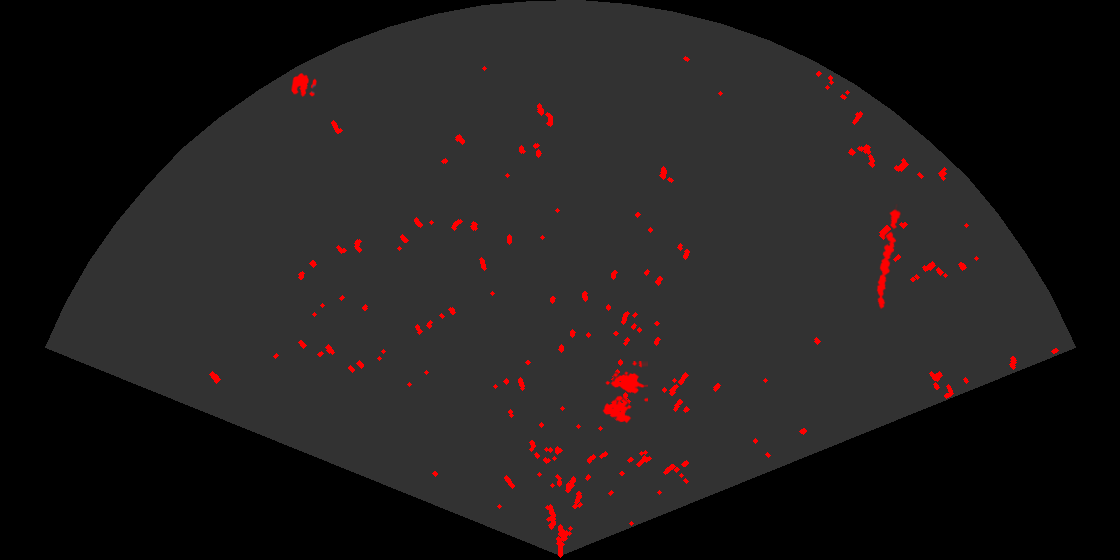ball: (290, 72, 318, 99)
cage: (601, 361, 648, 425)
chain: (875, 204, 902, 311)
